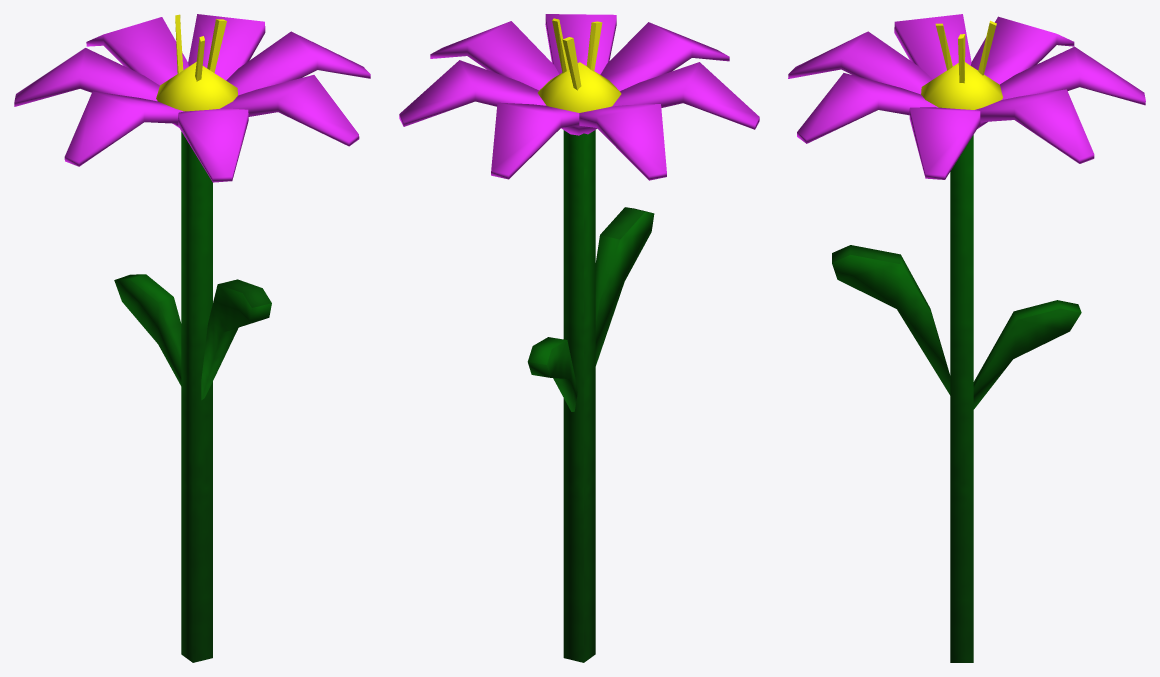
The model's file is lily.001.fbx.
3 renders of one model, left to right at view 1: azimuth 30°, elevation 25°; view 2: azimuth 150°, elevation 25°; view 3: azimuth 270°, elevation 25°, orthographic.
Visible parts, largest first — view 1: lily.001; view 2: lily.001; view 3: lily.001.
Part boxes in pixels (left/top/right/bottom): lily.001: left=14, top=14, right=370, bottom=662; lily.001: left=399, top=14, right=759, bottom=662; lily.001: left=788, top=14, right=1145, bottom=662.
Bounding box in the file's own units: 0.3136 × 0.6066 × 0.3101.
